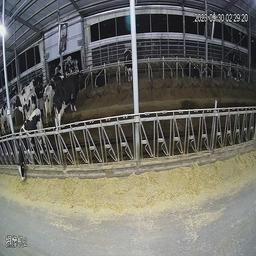cow: (8, 104, 46, 191), (51, 70, 84, 130), (20, 78, 43, 113), (43, 64, 55, 115), (121, 42, 133, 87), (91, 65, 110, 90), (183, 57, 199, 86), (227, 64, 245, 88), (61, 53, 82, 72), (203, 57, 215, 87)
